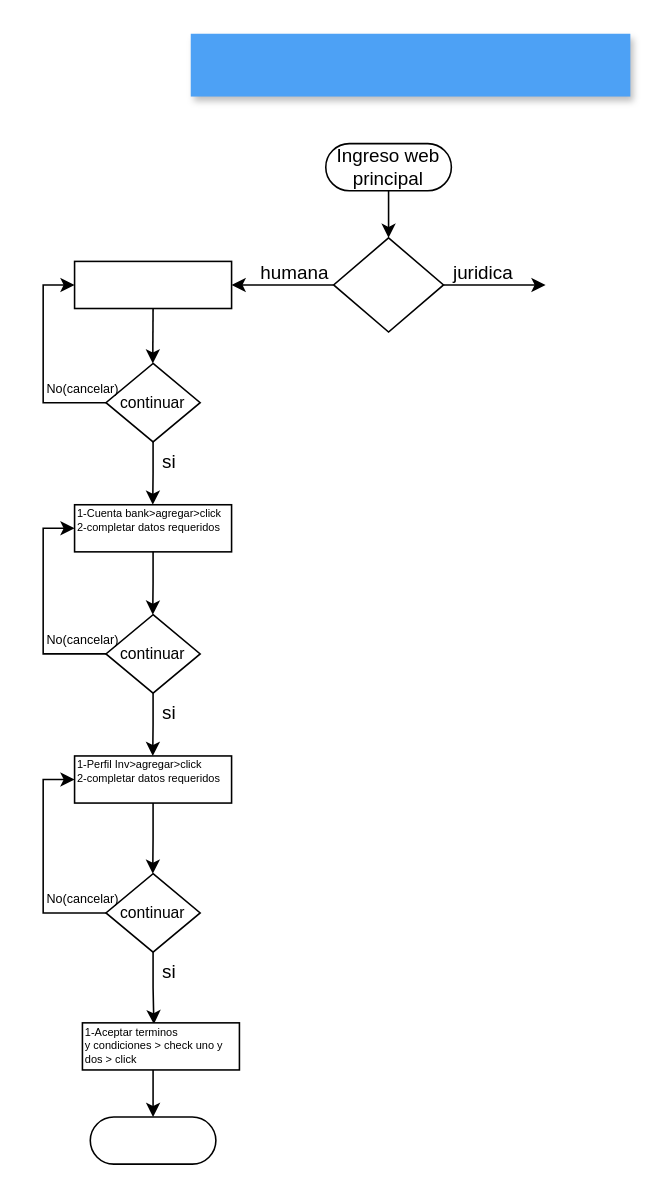
Some shapes in this 666 by 1192 pixel diagram are drawn without their labels. Here are the shapes that lost their labels. From the top down, the centre of each, then its label:
At [411,67]: "FlujoGrama".
At [152,284]: "1-titulares>agregar>click 2-completar datos requeridos".
At [388,284]: "tipo de cuenta".
At [152,1139]: "Abrir cuenta".
